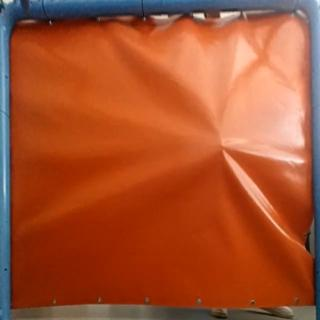Hit-hRxx: (212, 138, 231, 152)
